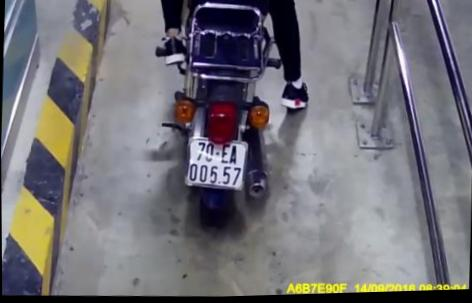LP: (183, 134, 250, 196)
